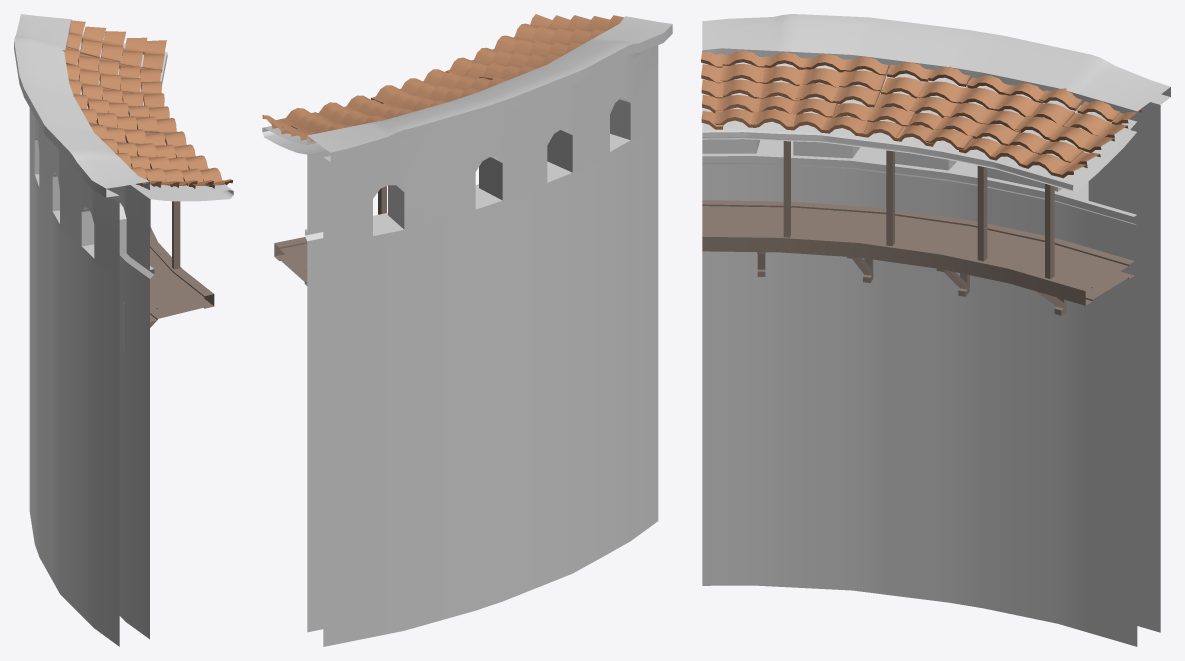
Rendered from SM_CityWallCurveModel.fbx.
The picture shows the model from 3 angles, left to right: view 1: azimuth 30°, elevation 25°; view 2: azimuth 150°, elevation 25°; view 3: azimuth 270°, elevation 25°; orthographic projection. The views are drawn at different scales.
Parts seen in each view (by area): view 1: Wall, MASH3_ReproMesh, Walkway, SupportBeam; view 2: Wall, MASH3_ReproMesh, Walkway; view 3: Wall, MASH3_ReproMesh, Walkway, SupportBeam2, SupportBeam3, SupportBeam1, SupportBeam.
Boxes of the visible parts, x1,y1,x2,y2 form: Wall: [14, 14, 233, 646]; MASH3_ReproMesh: [62, 20, 232, 188]; Walkway: [150, 227, 214, 321]; SupportBeam: [172, 201, 180, 269]; Wall: [262, 16, 672, 646]; MASH3_ReproMesh: [262, 14, 623, 142]; Walkway: [274, 184, 478, 285]; Wall: [702, 14, 1170, 646]; MASH3_ReproMesh: [701, 50, 1141, 178]; Walkway: [702, 200, 1134, 305]; SupportBeam2: [977, 166, 987, 261]; SupportBeam3: [1045, 183, 1054, 278]; SupportBeam1: [886, 150, 894, 246]; SupportBeam: [783, 141, 790, 237].
Size of the model in its own units: 559 by 1126 by 873.
